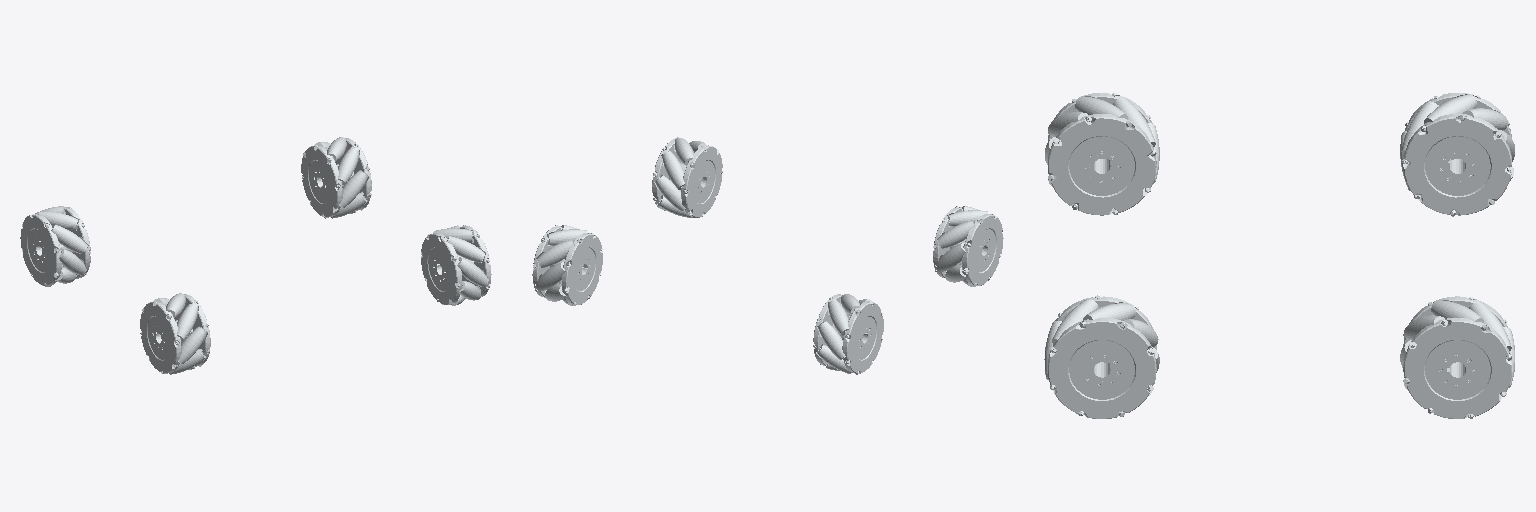
robot.urdf — arna_base:
<?xml version="1.0" ?>
<!-- =================================================================================== -->
<!-- |    This document was autogenerated by xacro from arna_base.xacro                | -->
<!-- |    EDITING THIS FILE BY HAND IS NOT RECOMMENDED                                 | -->
<!-- =================================================================================== -->
<robot name="arna_base" xmlns:xacro="http://www.ros.org/wiki/xacro">
  <!-- ros_control plugin -->
  <gazebo>
    <plugin filename="libgazebo_ros_control.so" name="gazebo_ros_control">
      <robotNamespace>/arna_base</robotNamespace>
      <!-- <robotSimType>gazebo_ros_control/DefaultRobotHWSim</robotSimType> -->
    </plugin>
  </gazebo>
  <gazebo reference="fl_link">
    <mu1 value="100000.0"/>
    <mu2 value="100000.0"/>
    <!--   	<fdir1>0 1 0</fdir1>
  	<minDepth>0.01</minDepth>
	<mu1 value="0.0"/>
    <mu2 value="0.0"/> -->
    <!--     <kp value="10000000.0" />
    <kd value="1.0" />  -->
    <material>Gazebo/Grey</material>
  </gazebo>
  <gazebo reference="fr_link">
    <mu1 value="100000.0"/>
    <mu2 value="100000.0"/>
    <!--   	<fdir1>0 1 0</fdir1>
  	<minDepth>0.01</minDepth>
	<mu1 value="0.0"/>
    <mu2 value="0.0"/> -->
    <!--     <kp value="10000000.0" />
    <kd value="1.0" />  -->
    <material>Gazebo/Grey</material>
  </gazebo>
  <gazebo reference="bl_link">
    <mu1 value="100000.0"/>
    <mu2 value="100000.0"/>
    <!--  	<fdir1>0 1 0</fdir1>
  	<minDepth>0.01</minDepth>
	<mu1 value="0.0"/>
    <mu2 value="0.0"/> -->
    <!--     <kp value="10000000.0" />
    <kd value="1.0" />  -->
    <material>Gazebo/Grey</material>
  </gazebo>
  <gazebo reference="br_link">
    <mu1 value="100000.0"/>
    <mu2 value="100000.0"/>
    <!--   	<fdir1>0 1 0</fdir1>
  	<minDepth>0.01</minDepth>
	<mu1 value="0.0"/>
    <mu2 value="0.0"/> -->
    <!--     <kp value="10000000.0" />
    <kd value="1.0" />  -->
    <material>Gazebo/Grey</material>
  </gazebo>
  <!-- <link name="world"/> -->
  <link name="dummy_link"/>
  <joint name="fixed" type="fixed">
    <parent link="dummy_link"/>
    <child link="base_link"/>
  </joint>
  <link name="base_link">
    <inertial>
      <origin rpy="0 0 0" xyz="0 0 0"/>
      <!-- xyz = "-0.0035731875614072 0.242136118748611 -0.0486968548113747"-->
      <mass value="127.979476827935"/>
      <inertia ixx="8.92508720014459" ixy="0.386969604653879" ixz="-0.183135216071402" iyy="9.43135313907935" iyz="0.55988655947468" izz="9.13799322069061"/>
    </inertial>
    <visual>
      <origin rpy="0 0 0" xyz="0 0 0"/>
      <geometry>
        <mesh filename="package://arna_base_description/meshes/base_link.STL"/>
      </geometry>
      <material name="">
        <color rgba="0.752941176470588 0.752941176470588 0.752941176470588 1"/>
      </material>
    </visual>
    <collision>
      <origin rpy="0 0 0" xyz="0 0 0"/>
      <geometry>
        <mesh filename="package://arna_base_description/meshes/base_link.STL"/>
      </geometry>
    </collision>
  </link>
  <joint name="fl_joint" type="continuous">
    <origin rpy="1.5708 -0.62539 -1.5708" xyz="-0.37084 0.31317 0.1016"/>
    <parent link="base_link"/>
    <child link="fl_link"/>
    <axis xyz="0 0 -1"/>
    <!--0 0 -1-->
    <!--     <limit
      effort="30"
      velocity="1.0" /> -->
  </joint>
  <link name="fl_link">
    <inertial>
      <origin rpy="0 0 0" xyz="-2.3929E-05 -1.0301E-07 0.05357"/>
      <!--xyz = -->
      <mass value="5.5136"/>
      <inertia ixx="0.012979" ixy="1.3657E-11" ixz="-3.6507E-09" iyy="0.012979" iyz="-2.742E-09" izz="0.017507"/>
    </inertial>
    <visual>
      <origin rpy="0 0 0" xyz="0 0 0"/>
      <!-- xyz="$0 0 {bodylen/2}" if cylinder is used -->
      <geometry>
        <!-- <cylinder radius="${width}" length="${bodylen}"/> -->
        <mesh filename="package://arna_base_description/meshes/fl_link.STL"/>
      </geometry>
      <material name="">
        <color rgba="0.89804 0.91765 0.92941 1"/>
      </material>
    </visual>
    <collision>
      <origin rpy="0 0 0" xyz="0 0 0.050772"/>
      <geometry>
        <!-- <cylinder radius="${width}" length="${bodylen}"/> -->
        <sphere radius="0.101478"/>
        <!--         <mesh
          filename="package://arna_base_description/meshes/fl_link.STL" /> -->
      </geometry>
    </collision>
  </link>
  <joint name="fr_joint" type="continuous">
    <origin rpy="1.5708  0 -1.5708" xyz="0.37084 0.31317 0.1016"/>
    <parent link="base_link"/>
    <child link="fr_link"/>
    <axis xyz="0 0 -1"/>
    <!--0 0 -1-->
    <!--     <limit
      effort="30"
      velocity="1.0" /> -->
  </joint>
  <link name="fr_link">
    <inertial>
      <origin rpy="0 0 0" xyz="-2.3976E-05 -1.0318E-09 -0.05357"/>
      <!-- xyz= -->
      <mass value="5.5137"/>
      <inertia ixx="0.01298" ixy="1.3643E-13" ixz="-3.6682E-09" iyy="0.01298" iyz="-2.7766E-10" izz="0.017507"/>
    </inertial>
    <visual>
      <origin rpy="0 0 0" xyz="0 0 0"/>
      <!-- xyz="0 0 ${-bodylen/2}" if cylinder is used -->
      <geometry>
        <!-- <cylinder radius="${width}" length="${bodylen}"/> -->
        <mesh filename="package://arna_base_description/meshes/fr_link.STL"/>
      </geometry>
      <material name="">
        <color rgba="0.89804 0.91765 0.92941 1"/>
      </material>
    </visual>
    <collision>
      <origin rpy="0 0 0" xyz="0 0 -0.050772"/>
      <geometry>
        <!-- <cylinder radius="${width}" length="${bodylen}"/> -->
        <sphere radius="0.101478"/>
        <!-- <mesh
          filename="package://arna_base_description/meshes/fr_link.STL" /> -->
      </geometry>
    </collision>
  </link>
  <joint name="bl_joint" type="continuous">
    <origin rpy="1.5708 -0.79346 1.5708" xyz="-0.37084 -0.31317 0.1016"/>
    <parent link="base_link"/>
    <child link="bl_link"/>
    <axis xyz="0 0 1"/>
    <!--0 0 1-->
    <!--     <limit
      effort="30"
      velocity="1.0" /> -->
  </joint>
  <link name="bl_link">
    <inertial>
      <origin rpy="0 0 0" xyz="-2.3976E-05 -1.0318E-09 -0.05357"/>
      <mass value="5.5137"/>
      <inertia ixx="0.01298" ixy="1.3644E-13" ixz="-3.6682E-09" iyy="0.01298" iyz="-2.7766E-10" izz="0.017507"/>
    </inertial>
    <visual>
      <origin rpy="0 0 0" xyz="0 0 0"/>
      <!-- xyz="$0 0 {-bodylen/2}" if cylinder is used -->
      <geometry>
        <!-- <cylinder radius="${width}" length="${bodylen}"/> -->
        <mesh filename="package://arna_base_description/meshes/bl_link.STL"/>
      </geometry>
      <material name="">
        <color rgba="0.89804 0.91765 0.92941 1"/>
      </material>
    </visual>
    <collision>
      <origin rpy="0 0 0" xyz="0 0 -0.050772 "/>
      <geometry>
        <!-- <cylinder radius="${width}" length="${bodylen}"/> -->
        <sphere radius="0.101478"/>
        <!--         <mesh
          filename="package://arna_base_description/meshes/bl_link.STL" /> -->
      </geometry>
    </collision>
  </link>
  <joint name="br_joint" type="continuous">
    <origin rpy="1.5708 -0.62539 1.5708" xyz="0.37085 -0.31317 0.1016"/>
    <parent link="base_link"/>
    <child link="br_link"/>
    <axis xyz="0 0 1"/>
    <!--0 0 1-->
    <!--     <limit
      effort="30"
      velocity="1.0" /> -->
  </joint>
  <link name="br_link">
    <inertial>
      <origin rpy="0 0 0" xyz="-2.3929E-05 -1.0301E-07 0.05357"/>
      <mass value="5.5136"/>
      <inertia ixx="0.012979" ixy="1.3657E-11" ixz="-3.6507E-09" iyy="0.012979" iyz="-2.742E-09" izz="0.017507"/>
    </inertial>
    <visual>
      <origin rpy="0 0 0" xyz="0 0 0"/>
      <!-- xyz="$0 0 {bodylen/2}" if cylinder is used -->
      <geometry>
        <!-- <cylinder radius="${width}" length="${bodylen}"/> -->
        <mesh filename="package://arna_base_description/meshes/br_link.STL"/>
      </geometry>
      <material name="">
        <color rgba="0.89804 0.91765 0.92941 1"/>
      </material>
    </visual>
    <collision>
      <origin rpy="0 0 0" xyz="0 0 0.050772 "/>
      <geometry>
        <!-- <cylinder radius="${width}" length="${bodylen}"/> -->
        <sphere radius="0.101478"/>
        <!-- <mesh
          filename="package://arna_base_description/meshes/br_link.STL" /> -->
      </geometry>
    </collision>
  </link>
  <joint name="hokuyo_joint" type="fixed">
    <axis xyz="0 0 0"/>
    <origin rpy="0 0 1.5708" xyz="0 0.5 0.3"/>
    <parent link="base_link"/>
    <child link="hokuyo_link"/>
  </joint>
  <!-- Hokuyo Laser -->
  <link name="hokuyo_link">
    <collision>
      <origin rpy="0 0 0" xyz="0 0 0"/>
      <geometry>
        <box size="0.1 0.1 0.1"/>
      </geometry>
    </collision>
    <visual>
      <origin rpy="0 0 0" xyz="0 0 0"/>
      <geometry>
        <mesh filename="package://arna_base_description/meshes/hokuyo.dae"/>
      </geometry>
    </visual>
    <inertial>
      <mass value="1e-5"/>
      <origin rpy="0 0 0" xyz="0 0 0"/>
      <inertia ixx="1e-6" ixy="0" ixz="0" iyy="1e-6" iyz="0" izz="1e-6"/>
    </inertial>
  </link>
  <gazebo reference="hokuyo_link">
      <sensor name="head_hokuyo_sensor" type="gpu_ray">
         <pose>0 0 0 0 0 0</pose>
         <visualize>false</visualize>
         <update_rate>40</update_rate>
         <ray>
            <scan>
               <horizontal>
                  <samples>720</samples>
                  <resolution>1</resolution>
                  <min_angle>-1.570796</min_angle>
                  <max_angle>1.570796</max_angle>
                  <!--
                  <min_angle>-2.26889</min_angle>
                  <max_angle>2.268899</max_angle>
                  -->
               </horizontal>
            </scan>
            <range>
               <min>0.10</min>
               <max>30.0</max>
               <resolution>0.01</resolution>
            </range>
            <noise>
               <type>gaussian</type>
               <mean>0.0</mean>
               <stddev>0.01</stddev>
            </noise>
         </ray>
         <plugin filename="libgazebo_ros_gpu_laser.so" name="gazebo_ros_head_hokuyo_controller">
            <topicName>/scan</topicName>
            <frameName>hokuyo_link</frameName>
         </plugin>
      </sensor>
   </gazebo>
  <transmission name="tran1">
    <type>transmission_interface/SimpleTransmission</type>
    <joint name="fl_joint">
      <hardwareInterface>hardware_interface/VelocityJointInterface</hardwareInterface>
    </joint>
    <!--hardware_interface/EffortJointInterface-->
    <actuator name="motor1">
      <hardwareInterface>VelocityJointInterface</hardwareInterface>
      <mechanicalReduction>1</mechanicalReduction>
    </actuator>
  </transmission>
  <transmission name="tran2">
    <type>transmission_interface/SimpleTransmission</type>
    <joint name="fr_joint">
      <hardwareInterface>hardware_interface/VelocityJointInterface</hardwareInterface>
    </joint>
    <actuator name="motor2">
      <hardwareInterface>VelocityJointInterface</hardwareInterface>
      <mechanicalReduction>1</mechanicalReduction>
    </actuator>
  </transmission>
  <transmission name="tran3">
    <type>transmission_interface/SimpleTransmission</type>
    <joint name="bl_joint">
      <hardwareInterface>hardware_interface/VelocityJointInterface</hardwareInterface>
    </joint>
    <actuator name="motor3">
      <hardwareInterface>VelocityJointInterface</hardwareInterface>
      <mechanicalReduction>1</mechanicalReduction>
    </actuator>
  </transmission>
  <transmission name="tran4">
    <type>transmission_interface/SimpleTransmission</type>
    <joint name="br_joint">
      <hardwareInterface>hardware_interface/VelocityJointInterface</hardwareInterface>
    </joint>
    <actuator name="motor4">
      <hardwareInterface>VelocityJointInterface</hardwareInterface>
      <mechanicalReduction>1</mechanicalReduction>
    </actuator>
  </transmission>
</robot>

--- Facts derived from the render (not from the file) ---
Views: 3 orthographic renders of the robot side by side, from view 1: azimuth 30°, elevation 25°; view 2: azimuth 150°, elevation 25°; view 3: azimuth 270°, elevation 25°.
Model arna_base with 7 links and 6 joints (4 continuous, 2 fixed), rooted at dummy_link, posed every joint at zero.
Links seen in each view (by area): view 1: fr_link, bl_link, br_link, fl_link; view 2: fr_link, fl_link, bl_link, br_link; view 3: fr_link, bl_link, fl_link, br_link.
Boxes of the visible links, bbox=[...] form: fr_link: bbox=[301, 137, 371, 218]; bl_link: bbox=[140, 293, 210, 374]; br_link: bbox=[421, 225, 491, 305]; fl_link: bbox=[20, 206, 90, 286]; fr_link: bbox=[532, 225, 602, 305]; fl_link: bbox=[813, 294, 883, 374]; bl_link: bbox=[933, 206, 1003, 286]; br_link: bbox=[652, 137, 722, 217]; fr_link: bbox=[1400, 296, 1514, 418]; bl_link: bbox=[1045, 93, 1159, 215]; fl_link: bbox=[1400, 93, 1514, 216]; br_link: bbox=[1044, 295, 1159, 418].
Size in the robot's own frame: 0.9556 by 0.8294 by 0.2031 metres.
Meshes: 6 distinct files referenced, 4 mesh visuals loaded (4 binary STL); not drawn: 2 (reference not matched to a file when rendering).